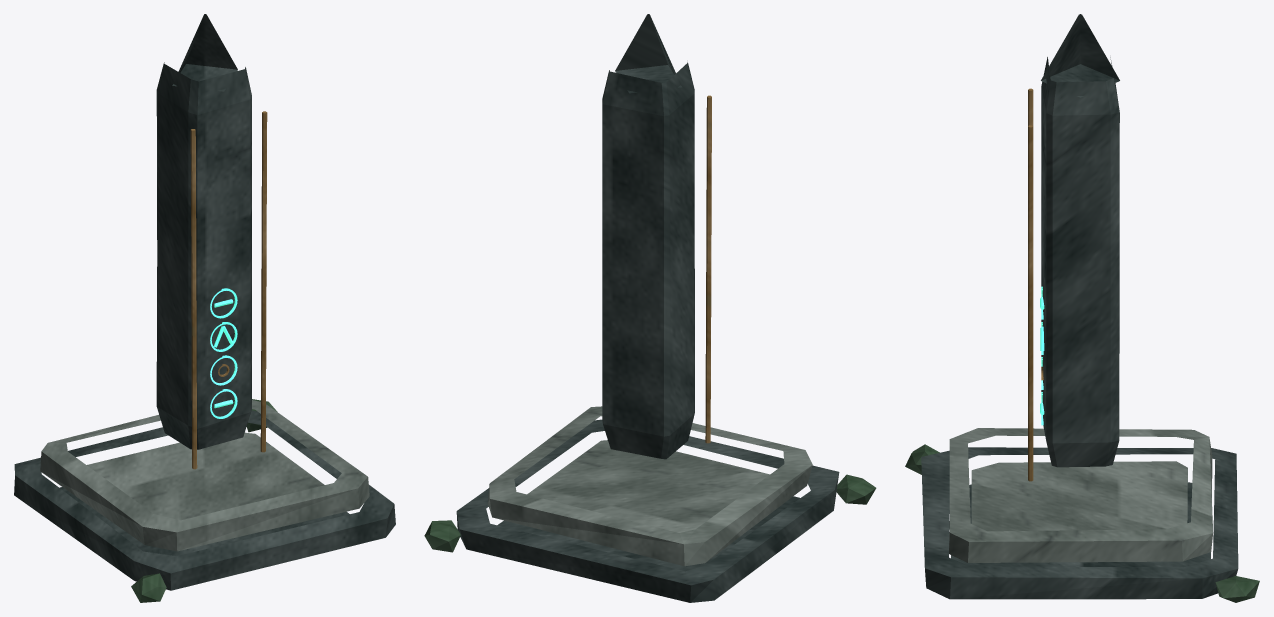
Rendered from 0483_obelisk_08.glb.
The picture shows the model from 3 angles, left to right: view 1: azimuth 30°, elevation 25°; view 2: azimuth 150°, elevation 25°; view 3: azimuth 270°, elevation 25°; orthographic projection. The views are drawn at different scales.
Parts seen in each view (by area): view 1: stone_dark, stone, brass, glow, moss; view 2: stone_dark, stone, brass, moss; view 3: stone_dark, stone, brass, moss.
Boxes of the visible parts, left/top/right/bottom form: stone_dark: left=14, top=14, right=395, bottom=590; stone: left=40, top=400, right=369, bottom=551; brass: left=190, top=111, right=267, bottom=469; glow: left=210, top=288, right=237, bottom=418; moss: left=131, top=399, right=277, bottom=602; stone_dark: left=456, top=14, right=839, bottom=602; stone: left=487, top=406, right=812, bottom=566; brass: left=705, top=95, right=711, bottom=443; moss: left=424, top=474, right=876, bottom=552; stone_dark: left=921, top=14, right=1238, bottom=599; stone: left=949, top=428, right=1213, bottom=562; brass: left=1028, top=88, right=1043, bottom=481; moss: left=905, top=444, right=1259, bottom=602.
Size of the model in its own units: 2.09 by 3.49 by 2.14.
5 materials, 5 textured.
